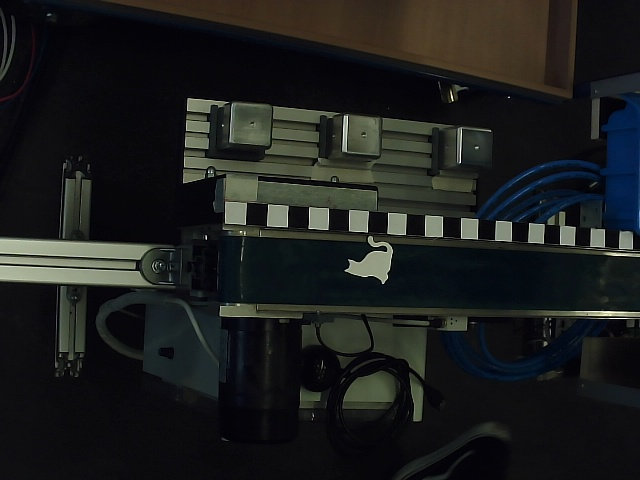cat: (345, 236, 395, 284)
